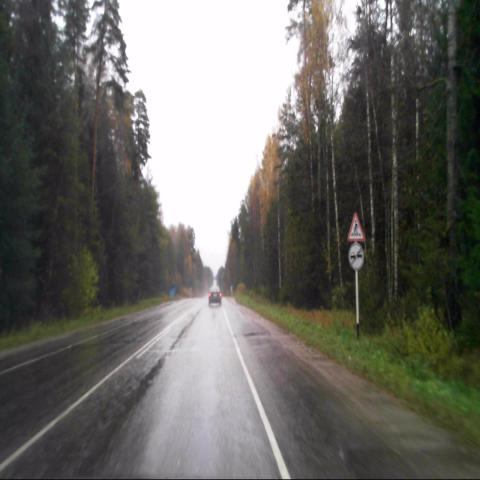3_21: (348, 243, 364, 271)
